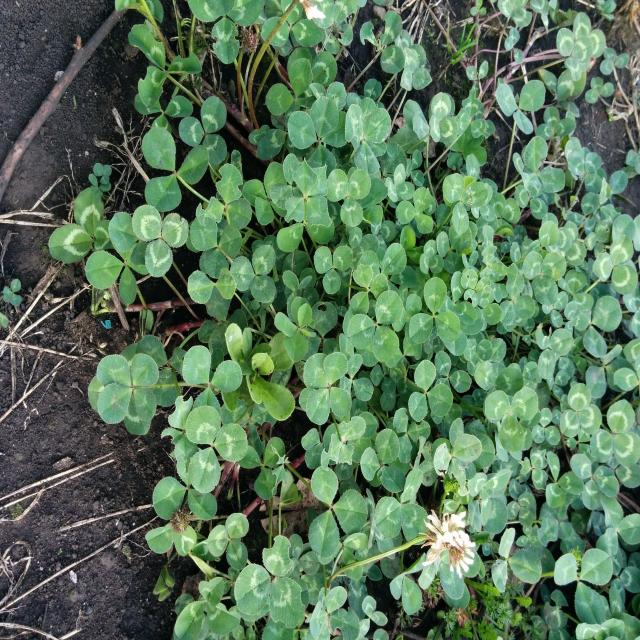Four Leaf Clover: (96, 353, 159, 424), (303, 352, 351, 425)
